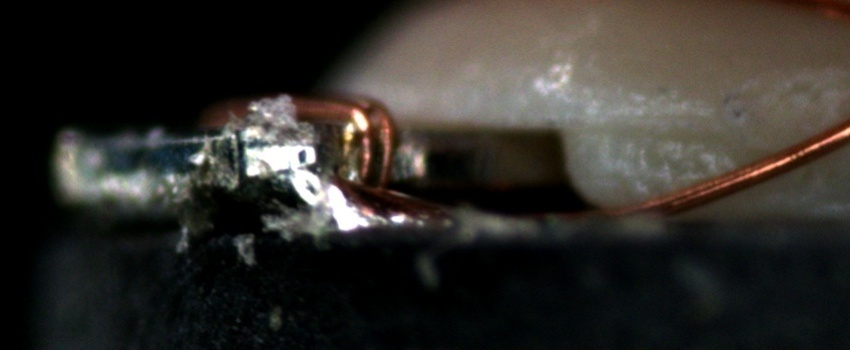DL: (577, 95, 735, 159)
TE: (198, 86, 402, 191)
